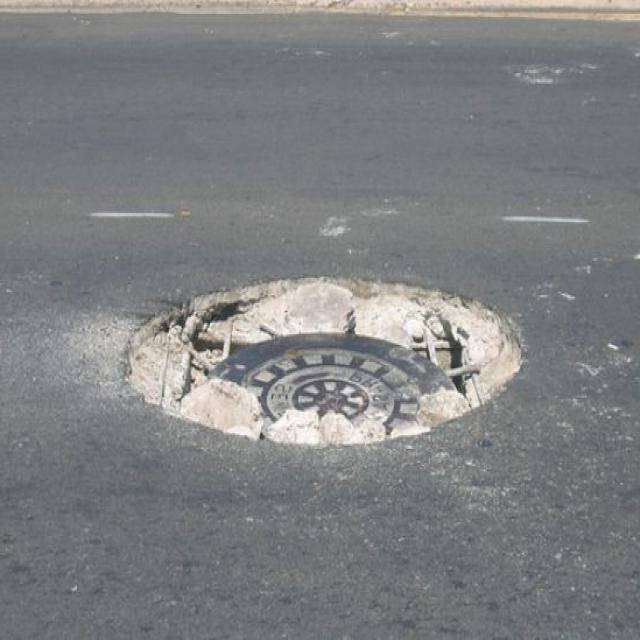Pothole: (117, 267, 533, 452)
